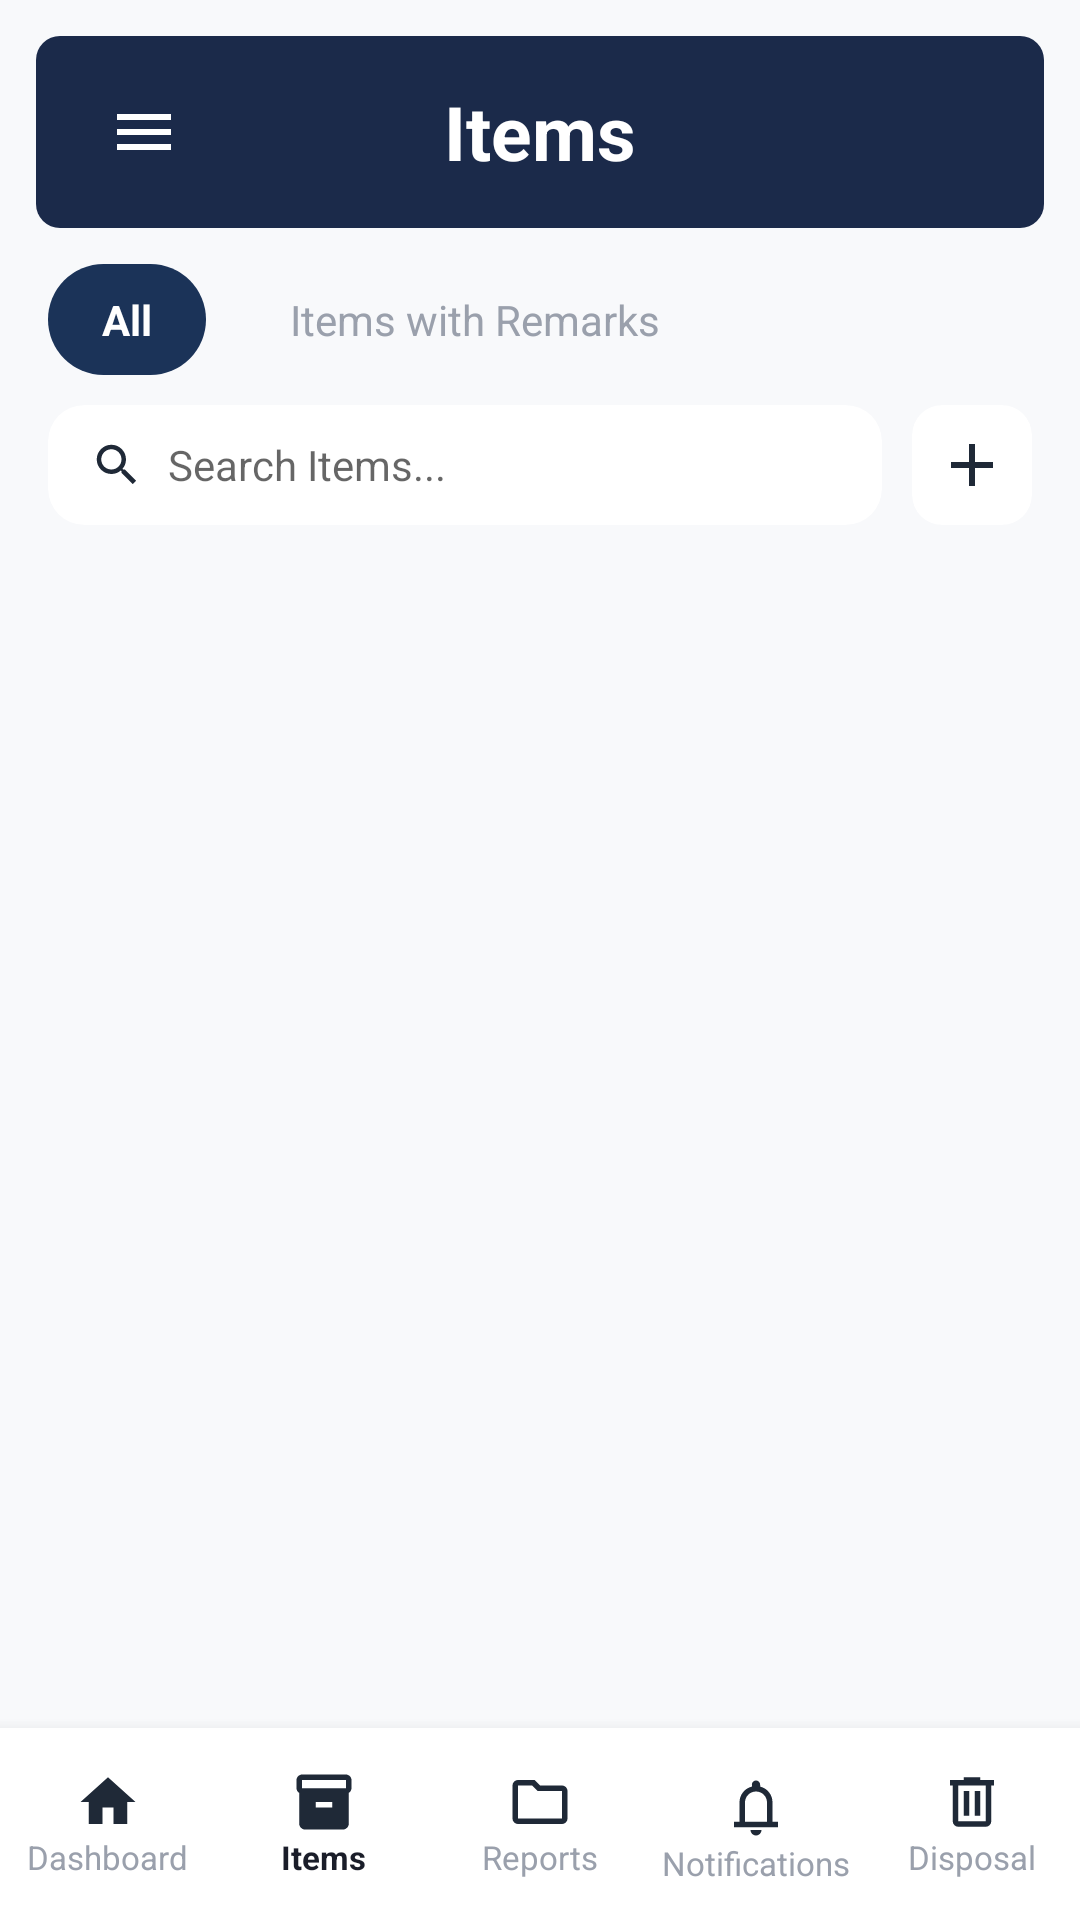

Screen size 1080w x 1920h. Icon name, then its box in pixels as (x1, y1, x2, y2):
Add New Item: (951, 444, 993, 486)
Menu: (117, 114, 171, 150)
